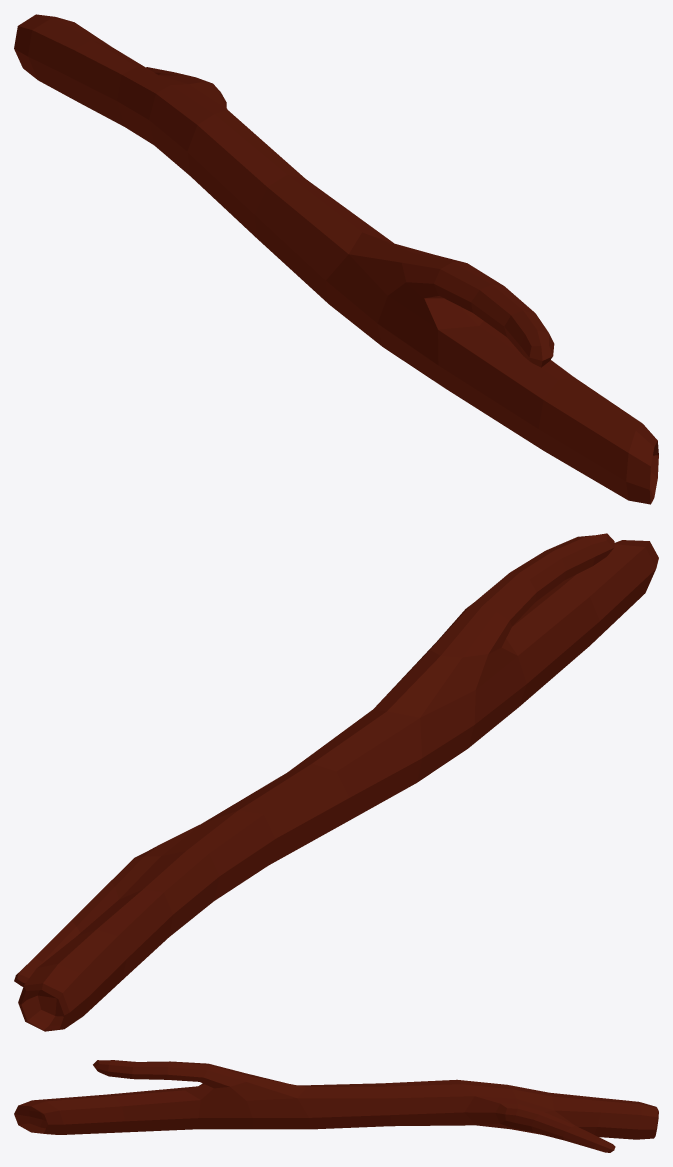
Rendered from log_1.gltf.
3 renders of one model, top to bottom at view 1: azimuth 30°, elevation 25°; view 2: azimuth 150°, elevation 25°; view 3: azimuth 270°, elevation 25°, orthographic. The views are drawn at different scales.
Visible parts, largest first — view 1: Log_1; view 2: Log_1; view 3: Log_1.
Boxes of the visible parts, x1,y1,x2,y2 form: Log_1: (14, 14, 658, 504); Log_1: (14, 533, 658, 1031); Log_1: (14, 1060, 658, 1152).
Size of the model in its own units: 53.01 by 54.76 by 459.
